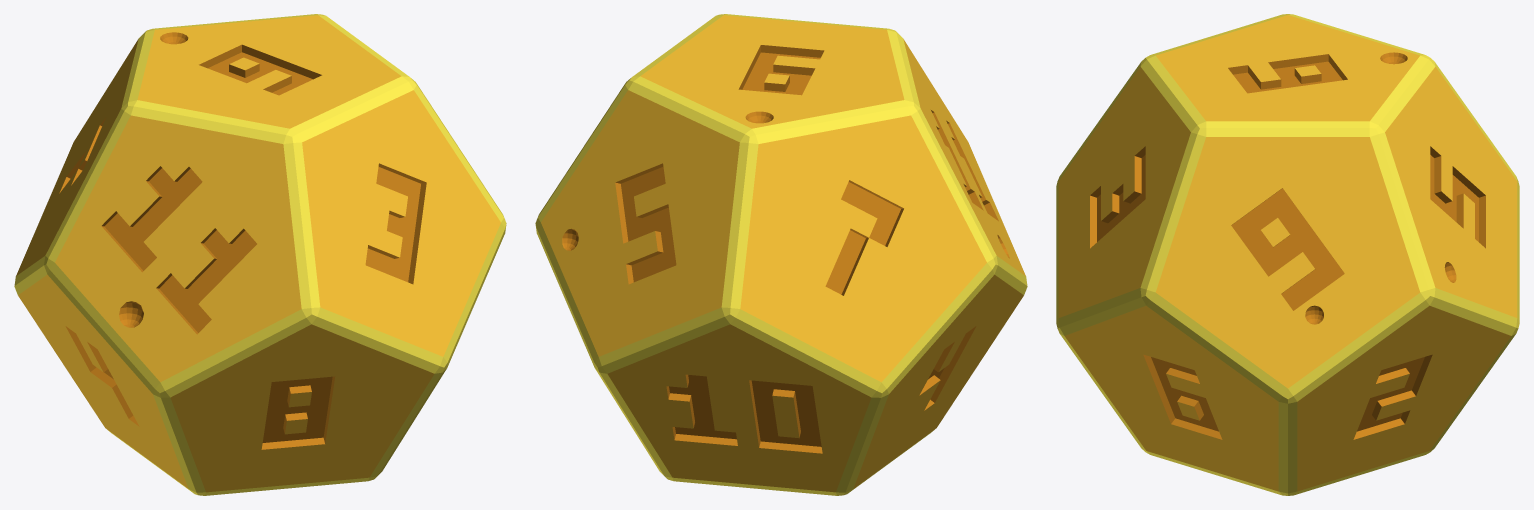
Rendered from Die_Gouda_d12_Lucky9.fbx.
3 views of the same model, side by side, from view 1: azimuth 30°, elevation 25°; view 2: azimuth 150°, elevation 25°; view 3: azimuth 270°, elevation 25° (orthographic). The views are drawn at different scales.
Visible parts, largest first — view 1: Die_Gouda_d12_Lucky9; view 2: Die_Gouda_d12_Lucky9; view 3: Die_Gouda_d12_Lucky9.
Part boxes in pixels (left/top/right/bottom): Die_Gouda_d12_Lucky9: left=14, top=14, right=506, bottom=495; Die_Gouda_d12_Lucky9: left=535, top=14, right=1027, bottom=495; Die_Gouda_d12_Lucky9: left=1056, top=14, right=1519, bottom=495.
Size of the model in its own units: 1.76 by 1.45 by 1.68.
